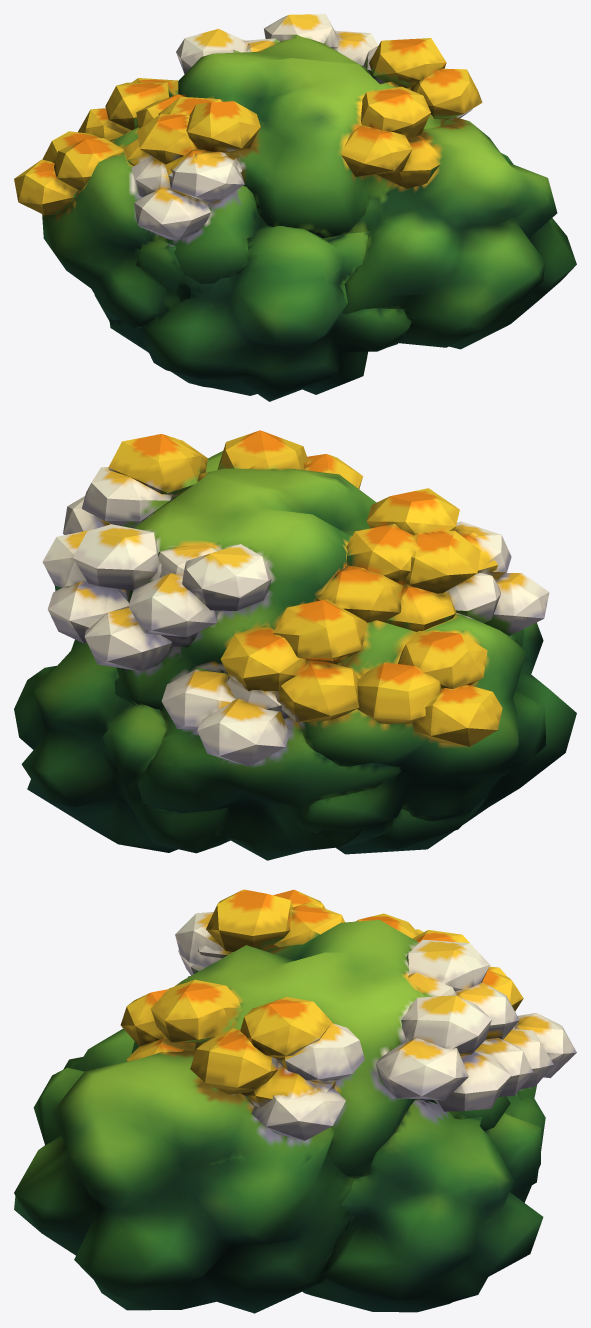
Rendered from flower_bush.glb.
3 renders of one model, top to bottom at view 1: azimuth 30°, elevation 25°; view 2: azimuth 150°, elevation 25°; view 3: azimuth 270°, elevation 25°, orthographic. The views are drawn at different scales.
Visible parts, largest first — view 1: flower_bush; view 2: flower_bush; view 3: flower_bush.
Part boxes in pixels (x1,y1,x2,y2): flower_bush: (14, 14, 576, 401); flower_bush: (14, 430, 576, 860); flower_bush: (14, 889, 576, 1313).
Size of the model in its own units: 1.59 by 1.03 by 1.5.
Materials: 1 (1 with a texture image).
